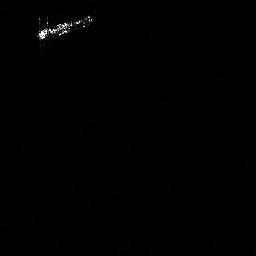ship: (36, 12, 95, 42)
